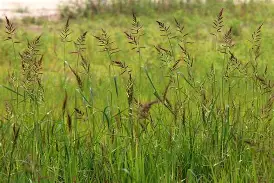weed: (0, 4, 273, 182)
